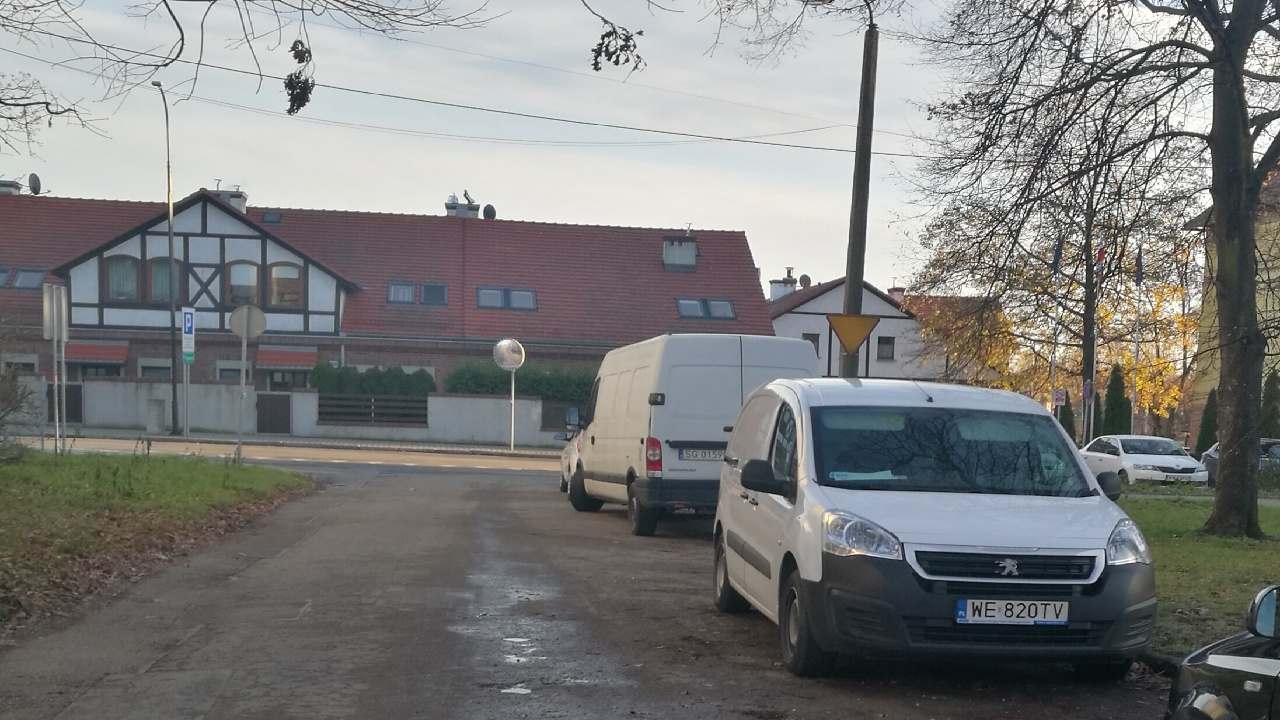A7: (824, 309, 887, 362)
D18: (180, 306, 198, 335)
